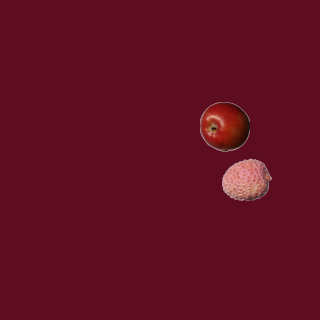Apple Braeburn: (199, 101, 249, 151)
Lychee: (221, 154, 271, 204)
